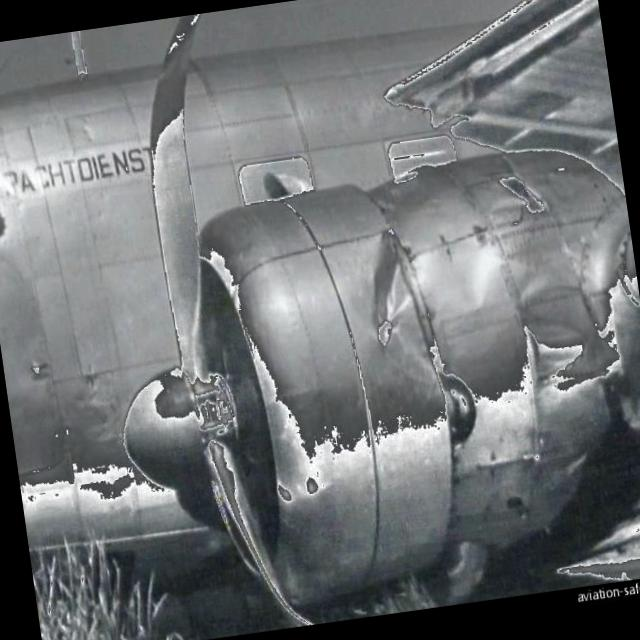dent: (354, 254, 434, 358)
